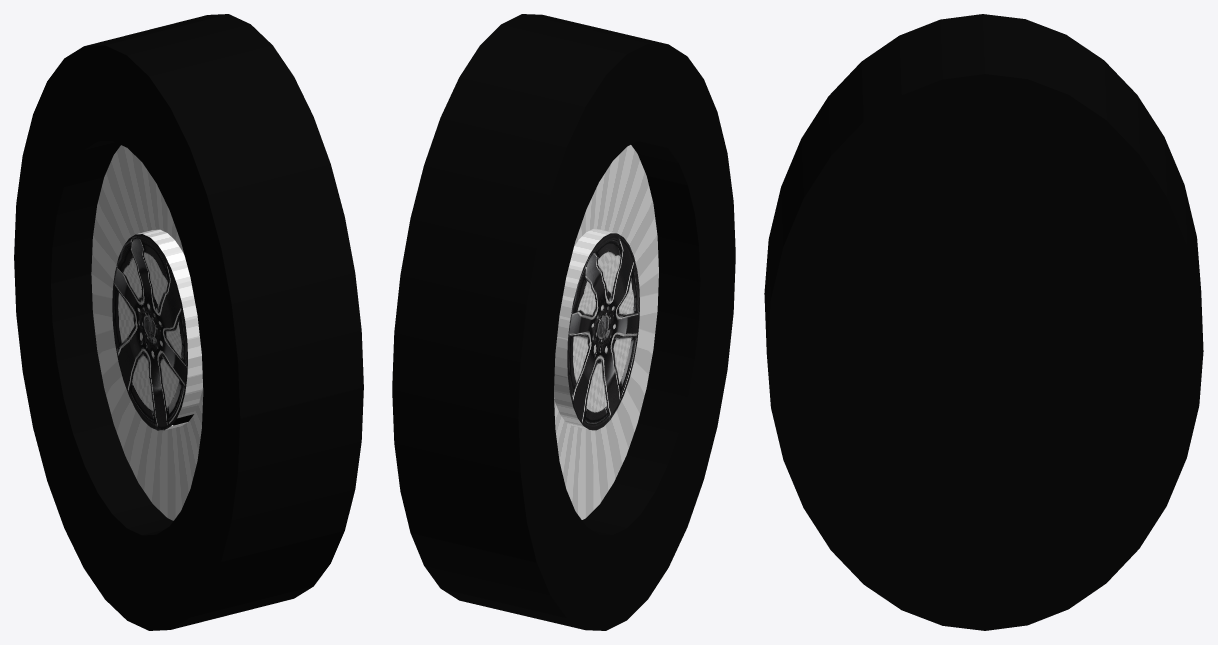
Rendered from llantaTEXTU.obj.
The picture shows the model from 3 angles, left to right: view 1: azimuth 30°, elevation 25°; view 2: azimuth 150°, elevation 25°; view 3: azimuth 270°, elevation 25°; orthographic projection.
Visible parts, largest first — view 1: Cylinder.010_Cylinder.008, Cylinder.011_Cylinder.013; view 2: Cylinder.010_Cylinder.008, Cylinder.011_Cylinder.013; view 3: Cylinder.010_Cylinder.008.
Boxes of the visible parts, <box> form: Cylinder.010_Cylinder.008: <box>14,14,363,630</box>; Cylinder.011_Cylinder.013: <box>91,145,203,520</box>; Cylinder.010_Cylinder.008: <box>392,14,735,630</box>; Cylinder.011_Cylinder.013: <box>554,145,658,519</box>; Cylinder.010_Cylinder.008: <box>764,14,1203,630</box>.
Bounding box in the file's own units: 0.4035 × 1.68 × 1.2.
